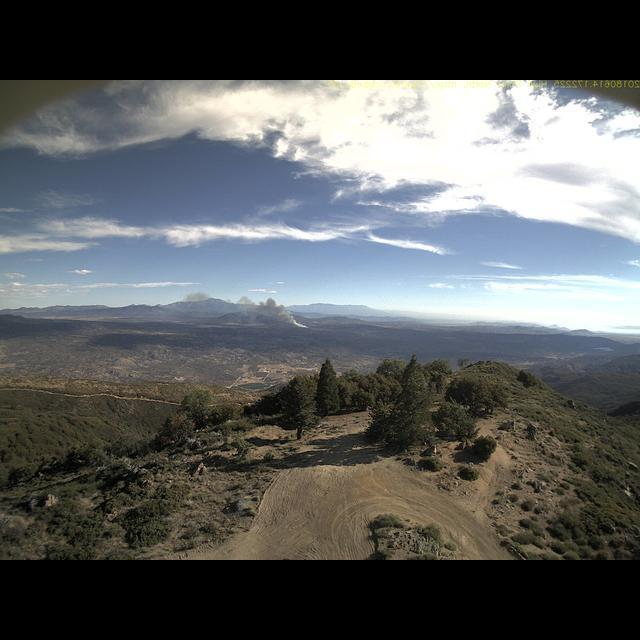Smoke: (178, 289, 311, 330)
